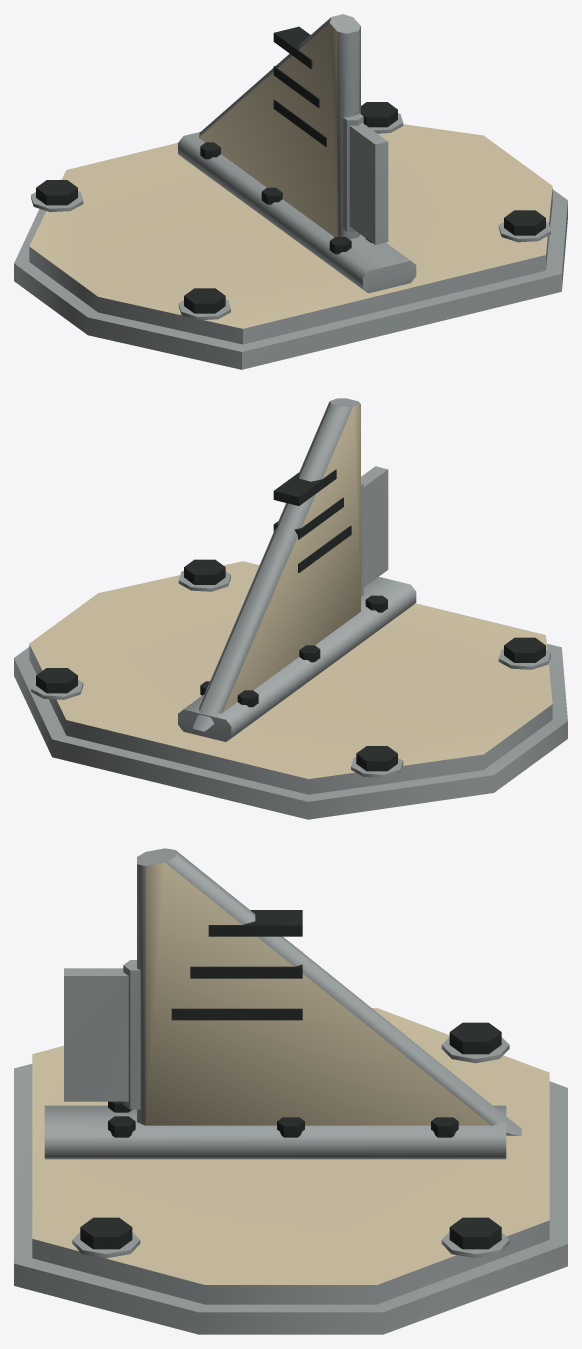
The model's file is panel_fin.glb.
The picture shows the model from 3 angles, top to bottom: view 1: azimuth 30°, elevation 25°; view 2: azimuth 150°, elevation 25°; view 3: azimuth 270°, elevation 25°; orthographic projection. The views are drawn at different scales.
Parts seen in each view (by area): view 1: panel_fin; view 2: panel_fin; view 3: panel_fin.
Part boxes in pixels (left/top/right/bottom): panel_fin: left=14, top=14, right=567, bottom=369; panel_fin: left=14, top=398, right=567, bottom=819; panel_fin: left=14, top=848, right=567, bottom=1334.
Bounding box in the file's own units: 0.45 × 0.24 × 0.36.
